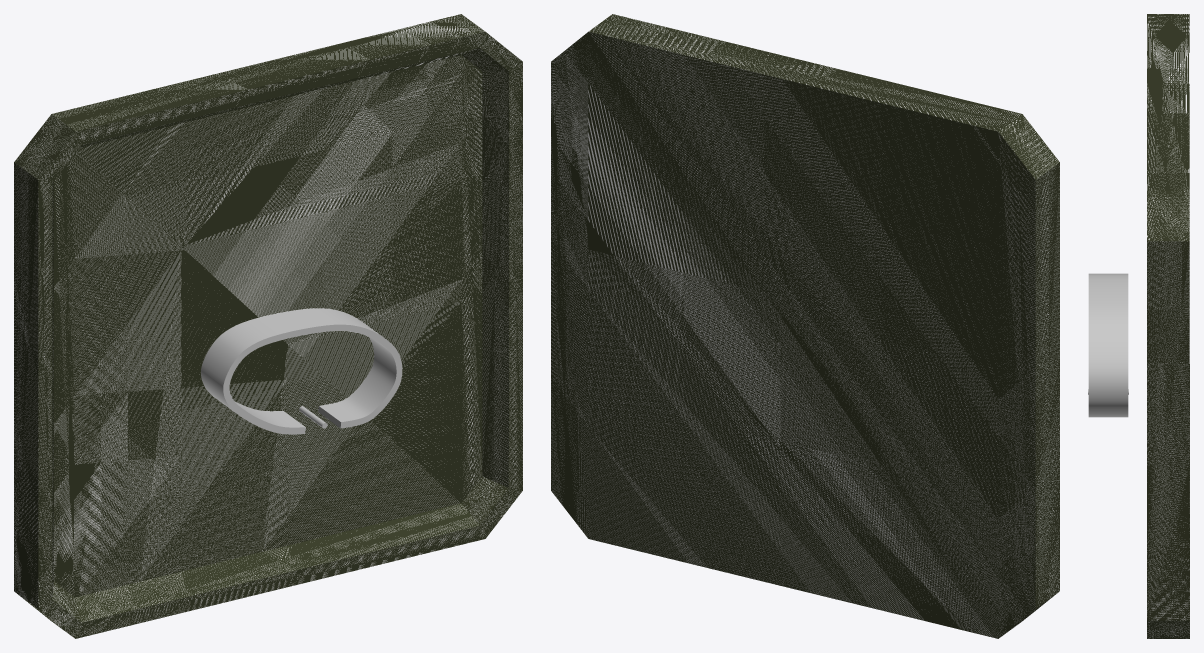
Rendered from CM_-_Platoon_Harbour.obj.
The picture shows the model from 3 angles, left to right: view 1: azimuth 30°, elevation 25°; view 2: azimuth 150°, elevation 25°; view 3: azimuth 270°, elevation 25°; orthographic projection. The views are drawn at different scales.
Visible parts, largest first — view 1: Button.001_ID13, Button_ID3, SM_CM_-_Platoon_Harbour_path1763-2.096; view 2: Button_ID3; view 3: Button_ID3, SM_CM_-_Platoon_Harbour_path1763-2.096.
Part boxes in pixels (x1,y1,x2,y2): Button.001_ID13: [52, 48, 508, 622]; Button_ID3: [14, 14, 522, 638]; SM_CM_-_Platoon_Harbour_path1763-2.096: [201, 308, 402, 434]; Button_ID3: [551, 14, 1059, 638]; Button_ID3: [1147, 14, 1189, 638]; SM_CM_-_Platoon_Harbour_path1763-2.096: [1088, 273, 1128, 417].
Size of the model in its own units: 1 by 1 by 0.2057.
